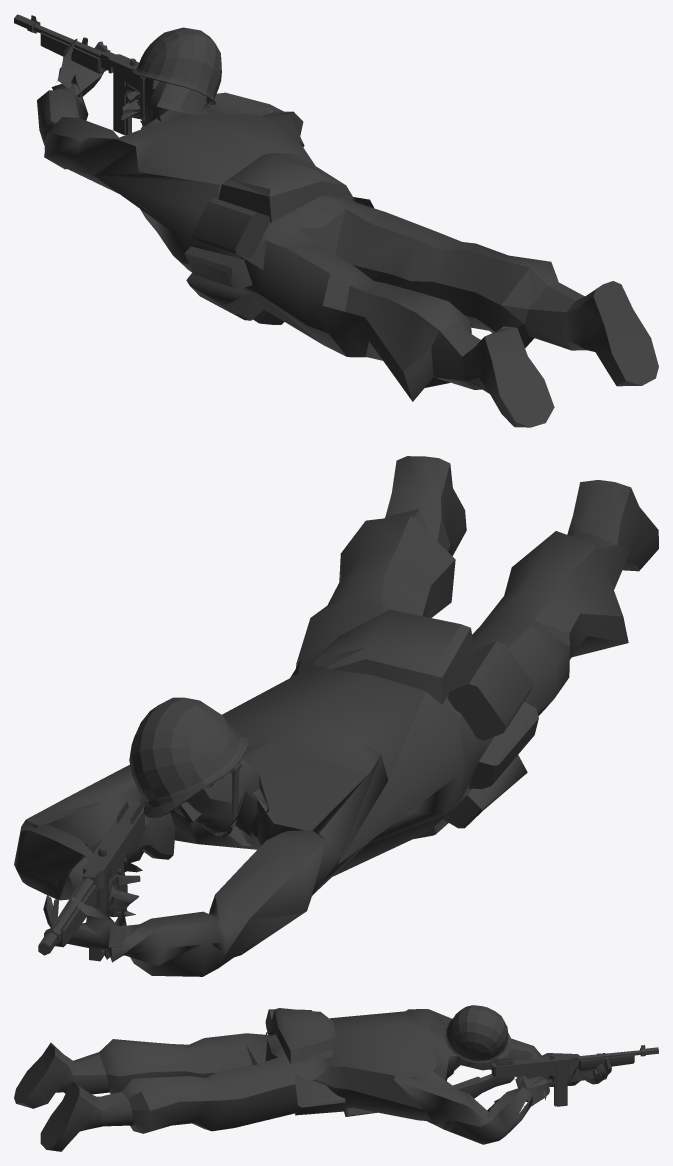
Rendered from us_mitra_prono.glb.
3 renders of one model, top to bottom at view 1: azimuth 30°, elevation 25°; view 2: azimuth 150°, elevation 25°; view 3: azimuth 270°, elevation 25°, orthographic. The views are drawn at different scales.
Visible parts, largest first — view 1: Object.004_Object.017_2; view 2: Object.004_Object.017_2; view 3: Object.004_Object.017_2.
Part boxes in pixels (x1,y1,x2,y2): Object.004_Object.017_2: [14, 14, 658, 427]; Object.004_Object.017_2: [14, 456, 658, 976]; Object.004_Object.017_2: [14, 1005, 658, 1151].
Bounding box in the file's own units: 0.2227 × 0.1343 × 0.6841.
1 material, 1 textured.
